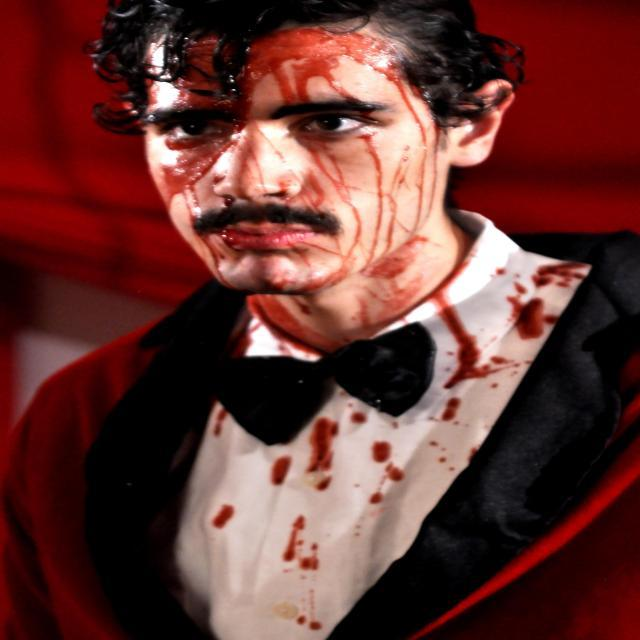flood: (262, 26, 406, 104), (500, 253, 597, 339), (434, 292, 494, 394), (167, 44, 255, 108), (303, 418, 343, 486)
